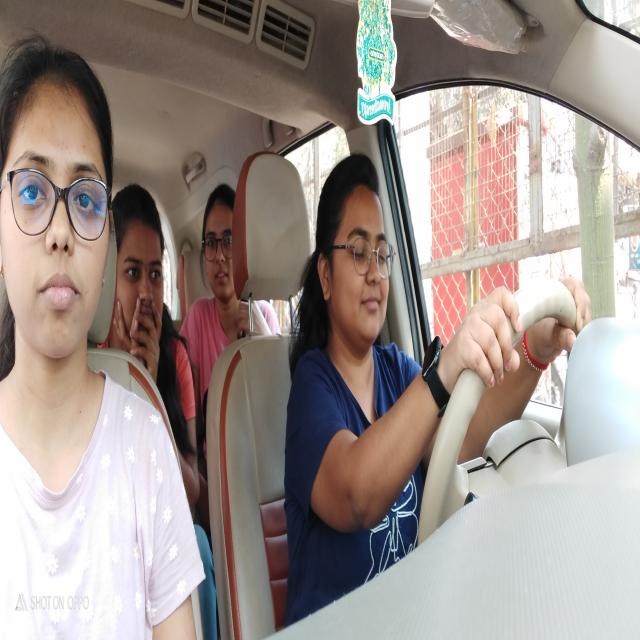drowsy: (314, 131, 414, 368)
person: (2, 20, 118, 392), (110, 167, 172, 356), (193, 181, 253, 342)
